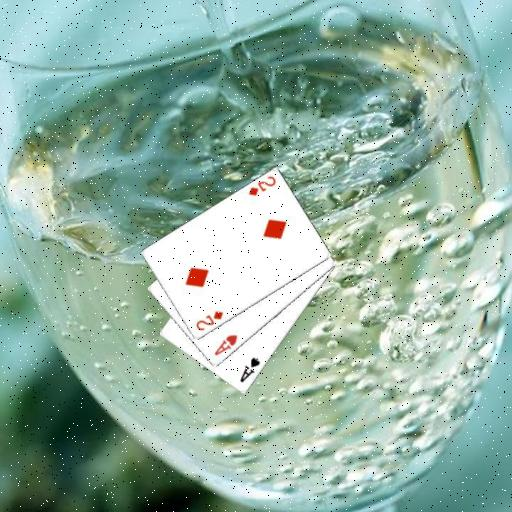2D: (193, 308, 225, 333), (246, 173, 278, 198)
AH: (211, 332, 239, 358)
AS: (237, 355, 262, 384)
